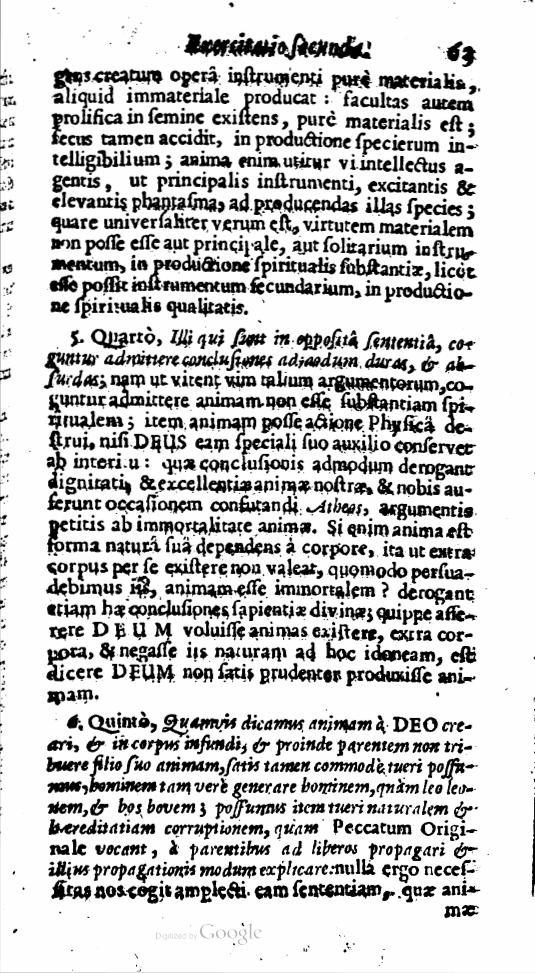bottom_p: (51, 64, 480, 320)
catchword: (440, 904, 481, 920)
full_p: (46, 325, 484, 706)
header: (183, 26, 376, 64)
page_num: (440, 35, 479, 66)
top_p: (44, 710, 480, 900)
